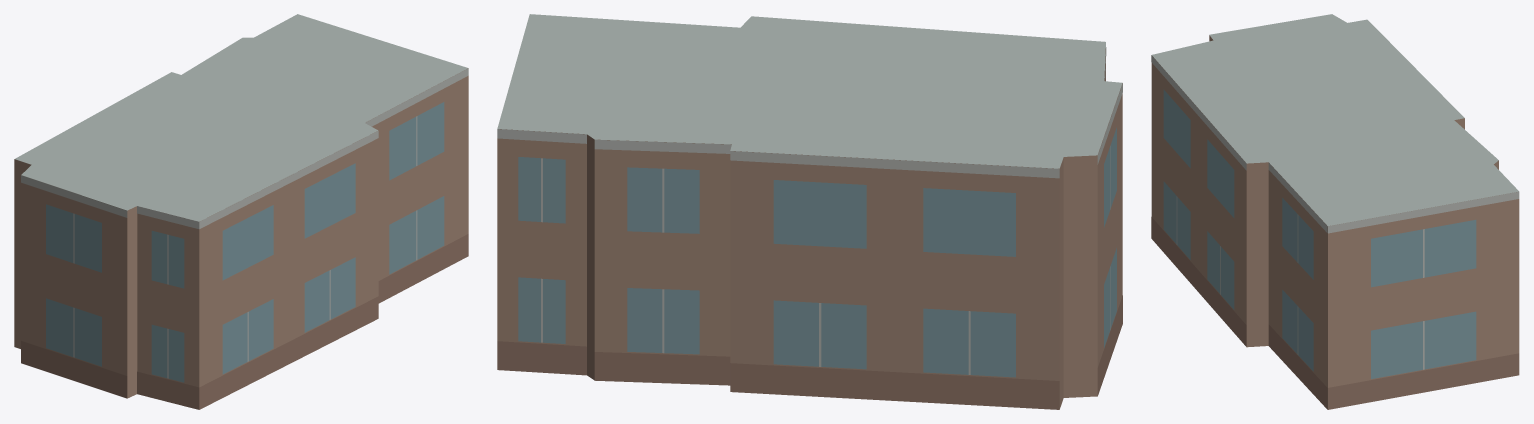
The model's file is survey-upis-32690954.glb.
The picture shows the model from 3 angles, left to right: view 1: azimuth 30°, elevation 25°; view 2: azimuth 150°, elevation 25°; view 3: azimuth 270°, elevation 25°; orthographic projection. The views are drawn at different scales.
Parts seen in each view (by area): view 1: survey-upis-32690954.tmp; view 2: survey-upis-32690954.tmp; view 3: survey-upis-32690954.tmp.
Boxes of the visible parts, box(x1,y1,x2,y2) form: survey-upis-32690954.tmp: box(14, 14, 468, 409); survey-upis-32690954.tmp: box(497, 14, 1122, 409); survey-upis-32690954.tmp: box(1151, 14, 1519, 409).
Size of the model in its own units: 15.12 by 6.1 by 11.08.
